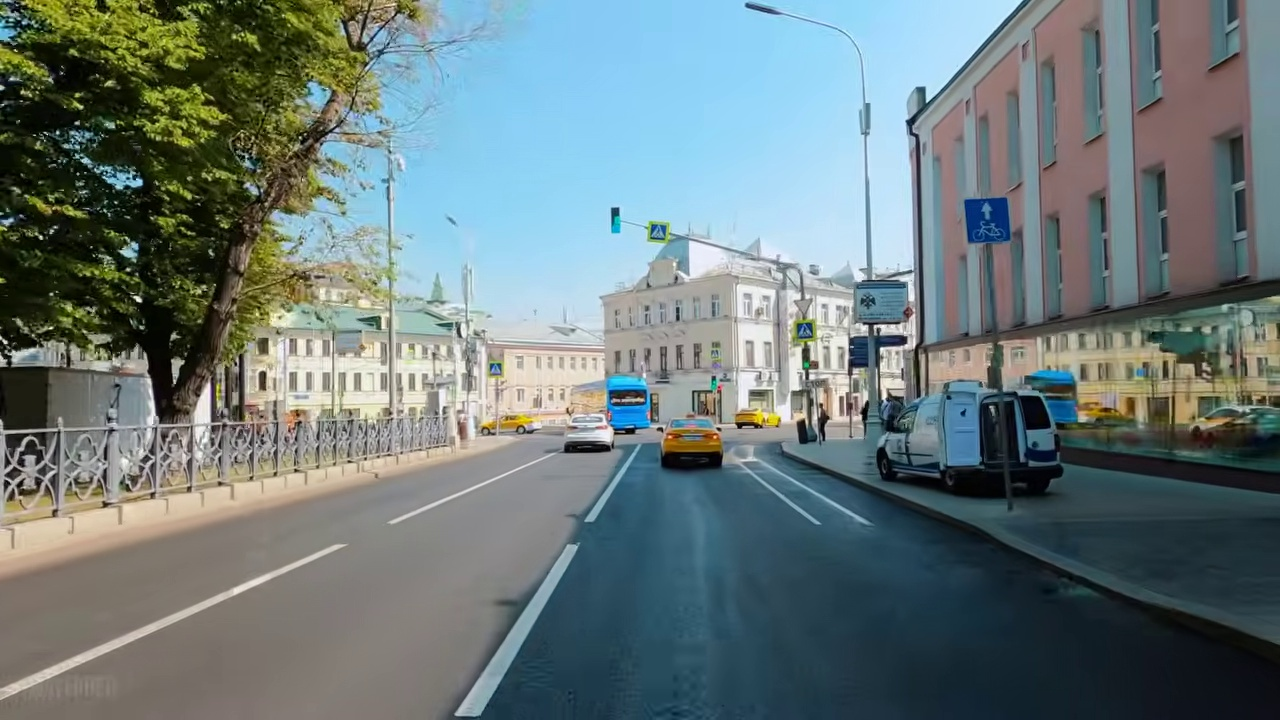apagada: (739, 2, 787, 24)
